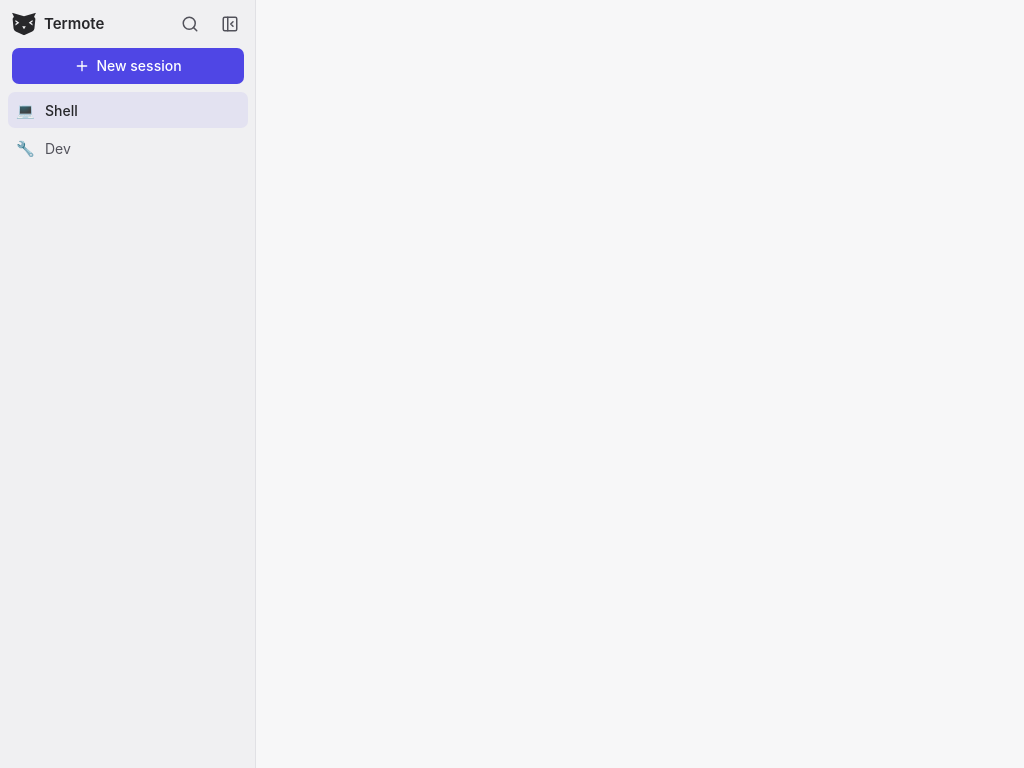
Scenario: SessionSidebar — desktop expanded (default) › shows add form when Add button clicked
Click the button titled "Add new session".
click(128, 66)  # box [12,48,244,84]
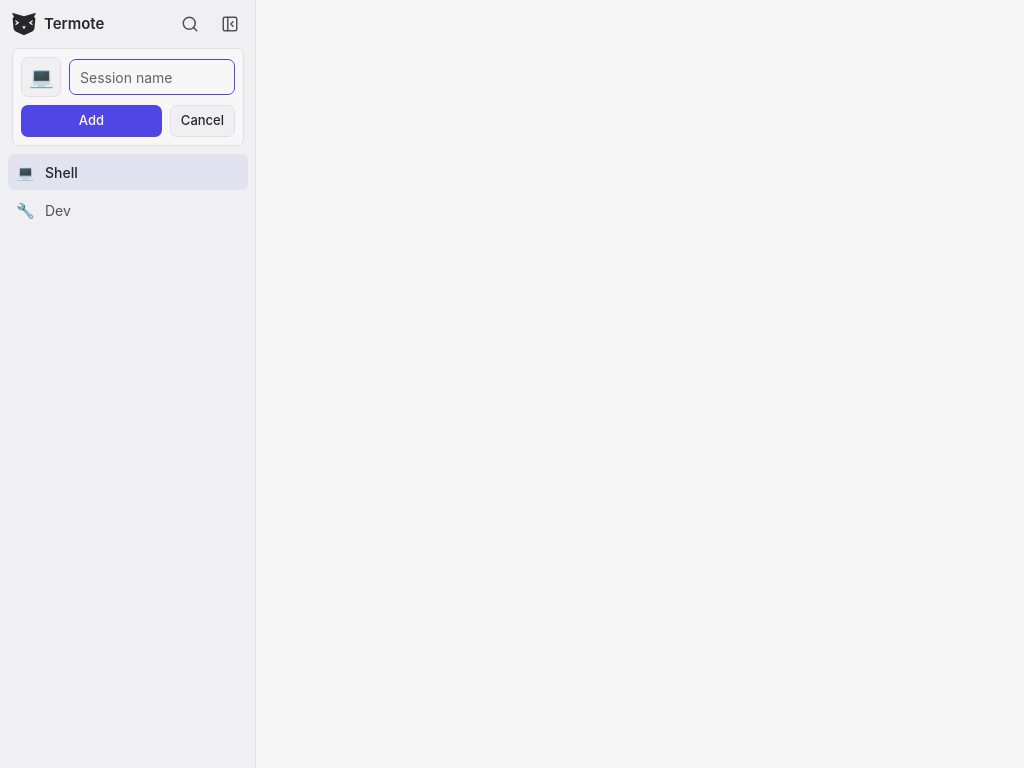
Result: the field with placeholder "Session name" is shown at [69,59,235,95]
